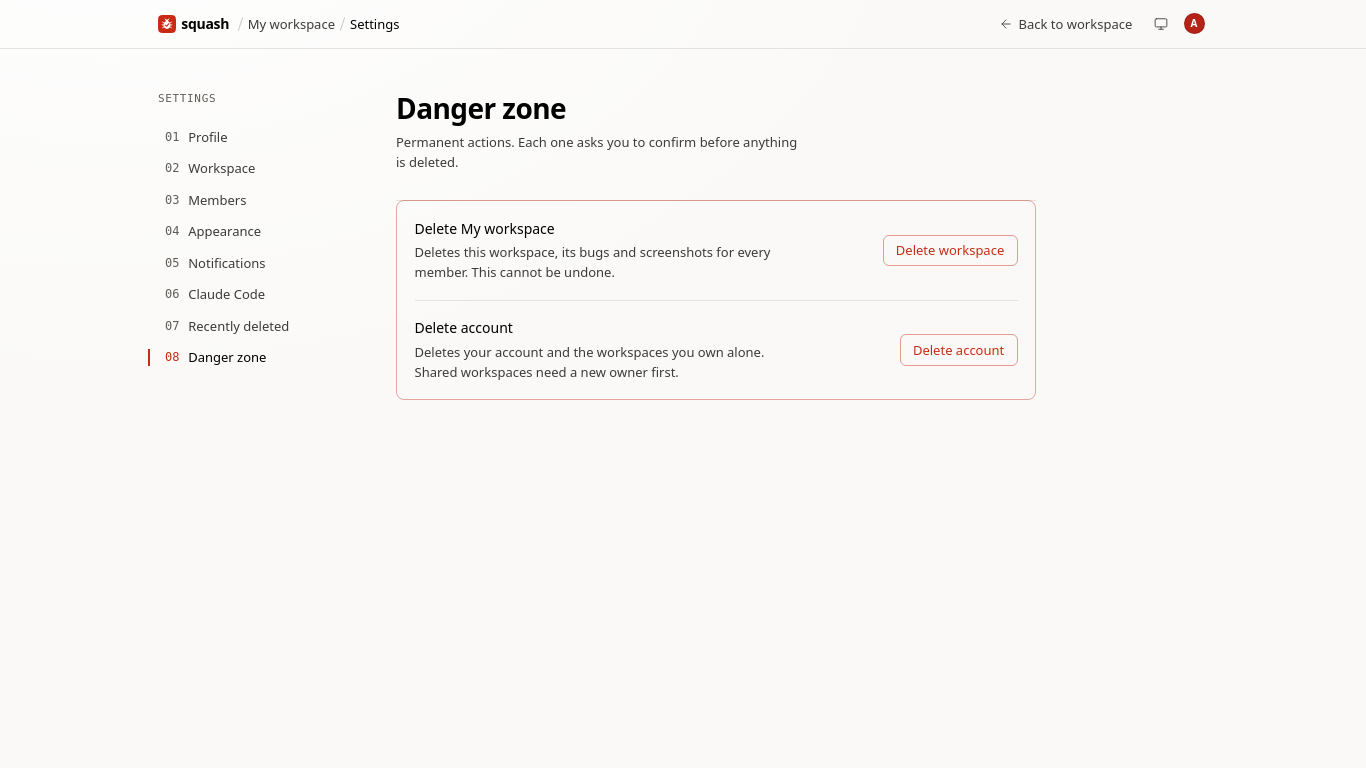
Test case: Settings › shows account deletion errors without signing out
The image size is (1366, 768).
Step 1. Click the button "Delete account" → (959, 350), box [900,334,1018,366]
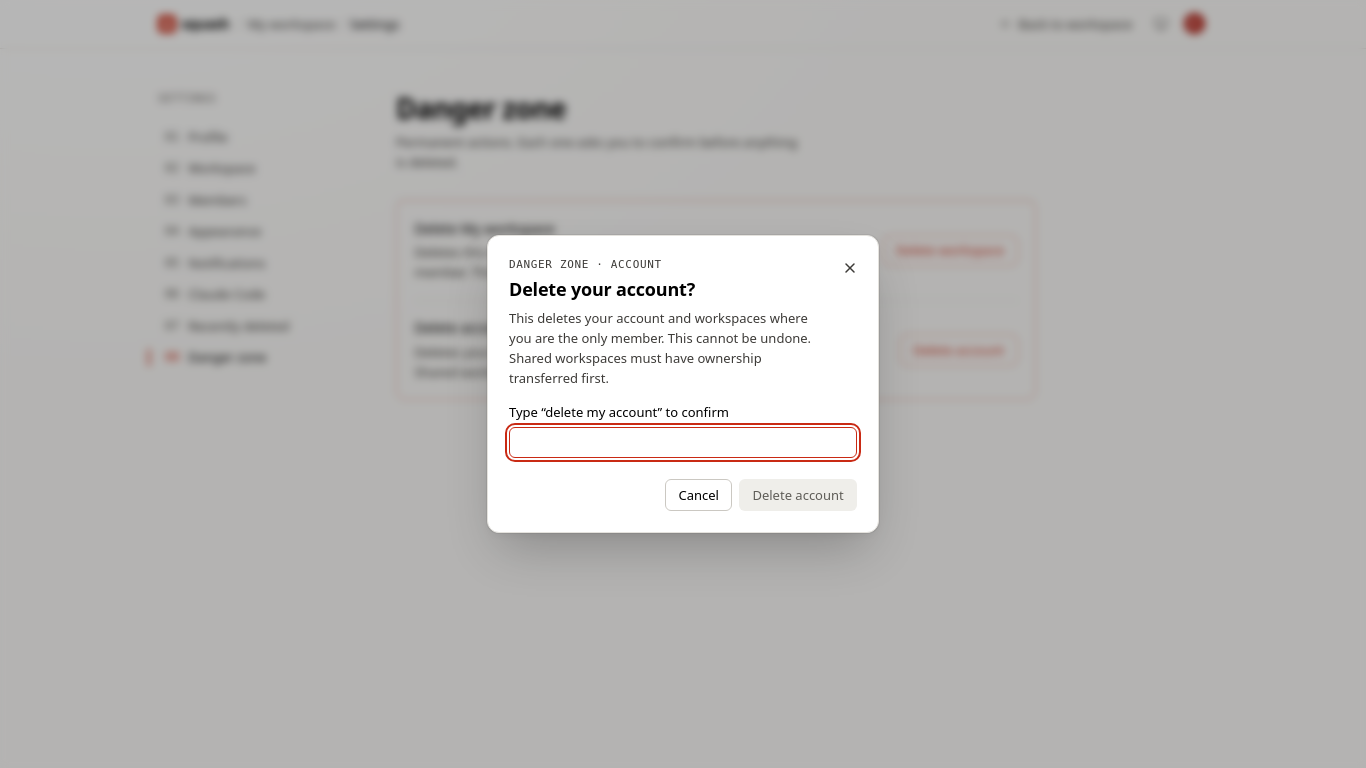
Step 2. Type "delete my account" into the field labelled "Type “delete my account” to confirm" → (683, 443), box [509,427,857,458]
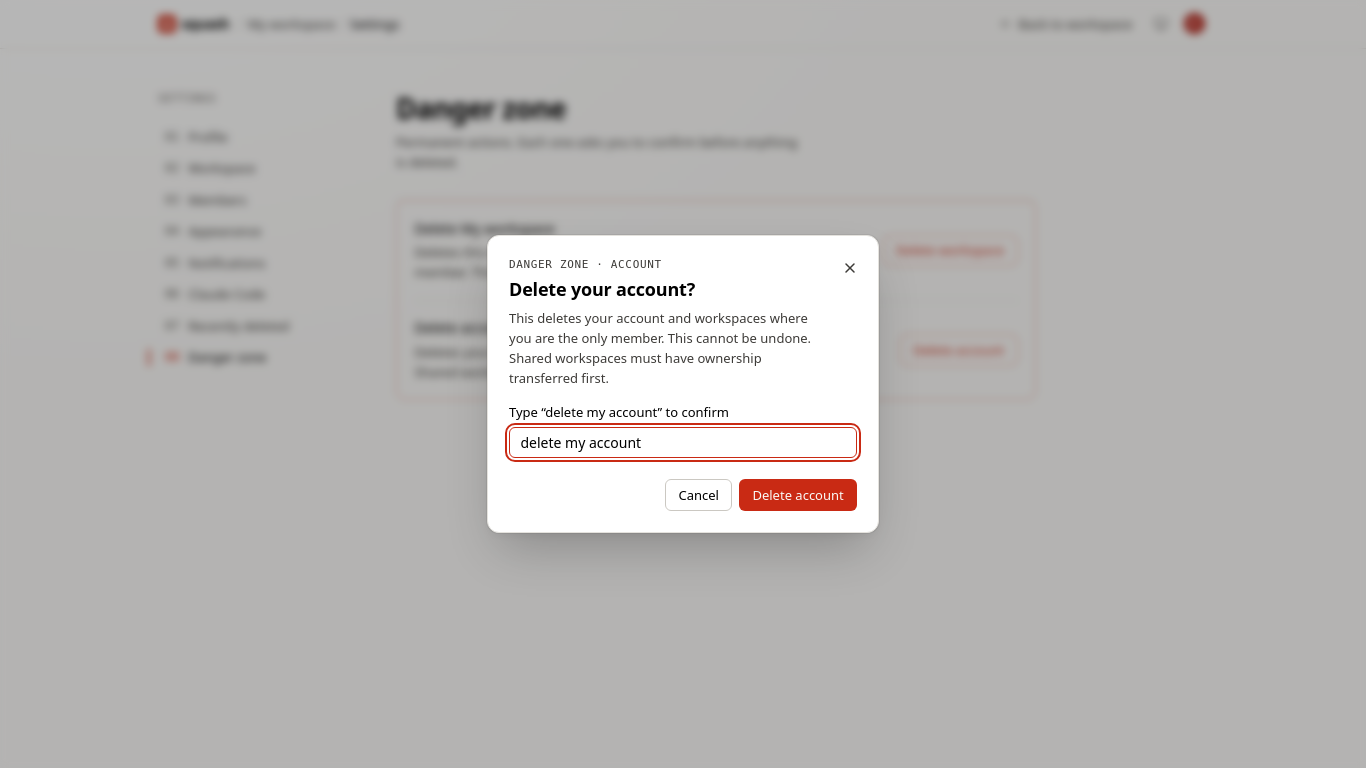
Step 3. Click the button "Delete account" → (798, 495), box [739,479,857,511]
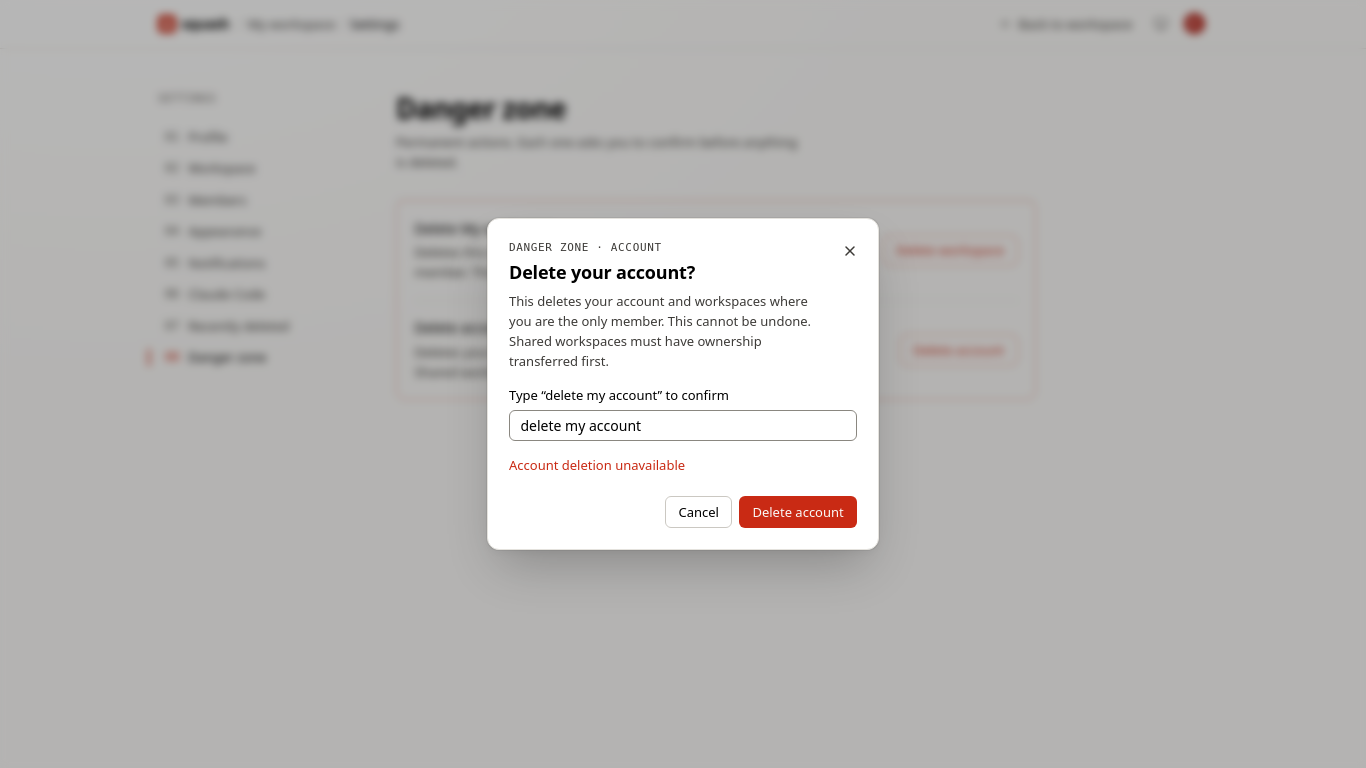
expect the message reads "Account deletion unavailable": met, box [509,456,685,474]
